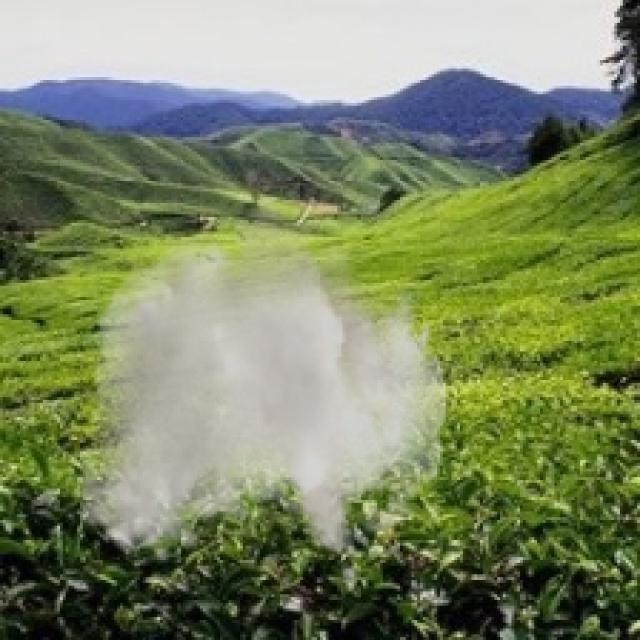smoke: (77, 188, 449, 568)
